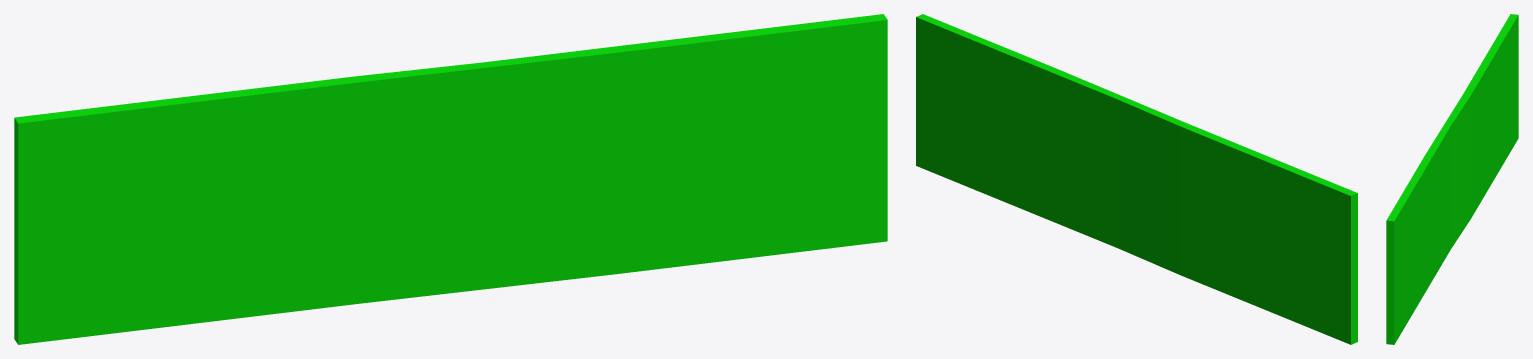
Rendered from InvisibleWall_016.fbx.
The picture shows the model from 3 angles, left to right: view 1: azimuth 30°, elevation 25°; view 2: azimuth 150°, elevation 25°; view 3: azimuth 270°, elevation 25°; orthographic projection. The views are drawn at different scales.
Parts seen in each view (by area): view 1: Designer153; view 2: Designer153; view 3: Designer153.
Boxes of the visible parts, left/top/right/bottom form: Designer153: left=14, top=14, right=887, bottom=344; Designer153: left=916, top=14, right=1357, bottom=344; Designer153: left=1386, top=14, right=1518, bottom=344.
Bounding box in the file's own units: 3059 × 850 × 824.
